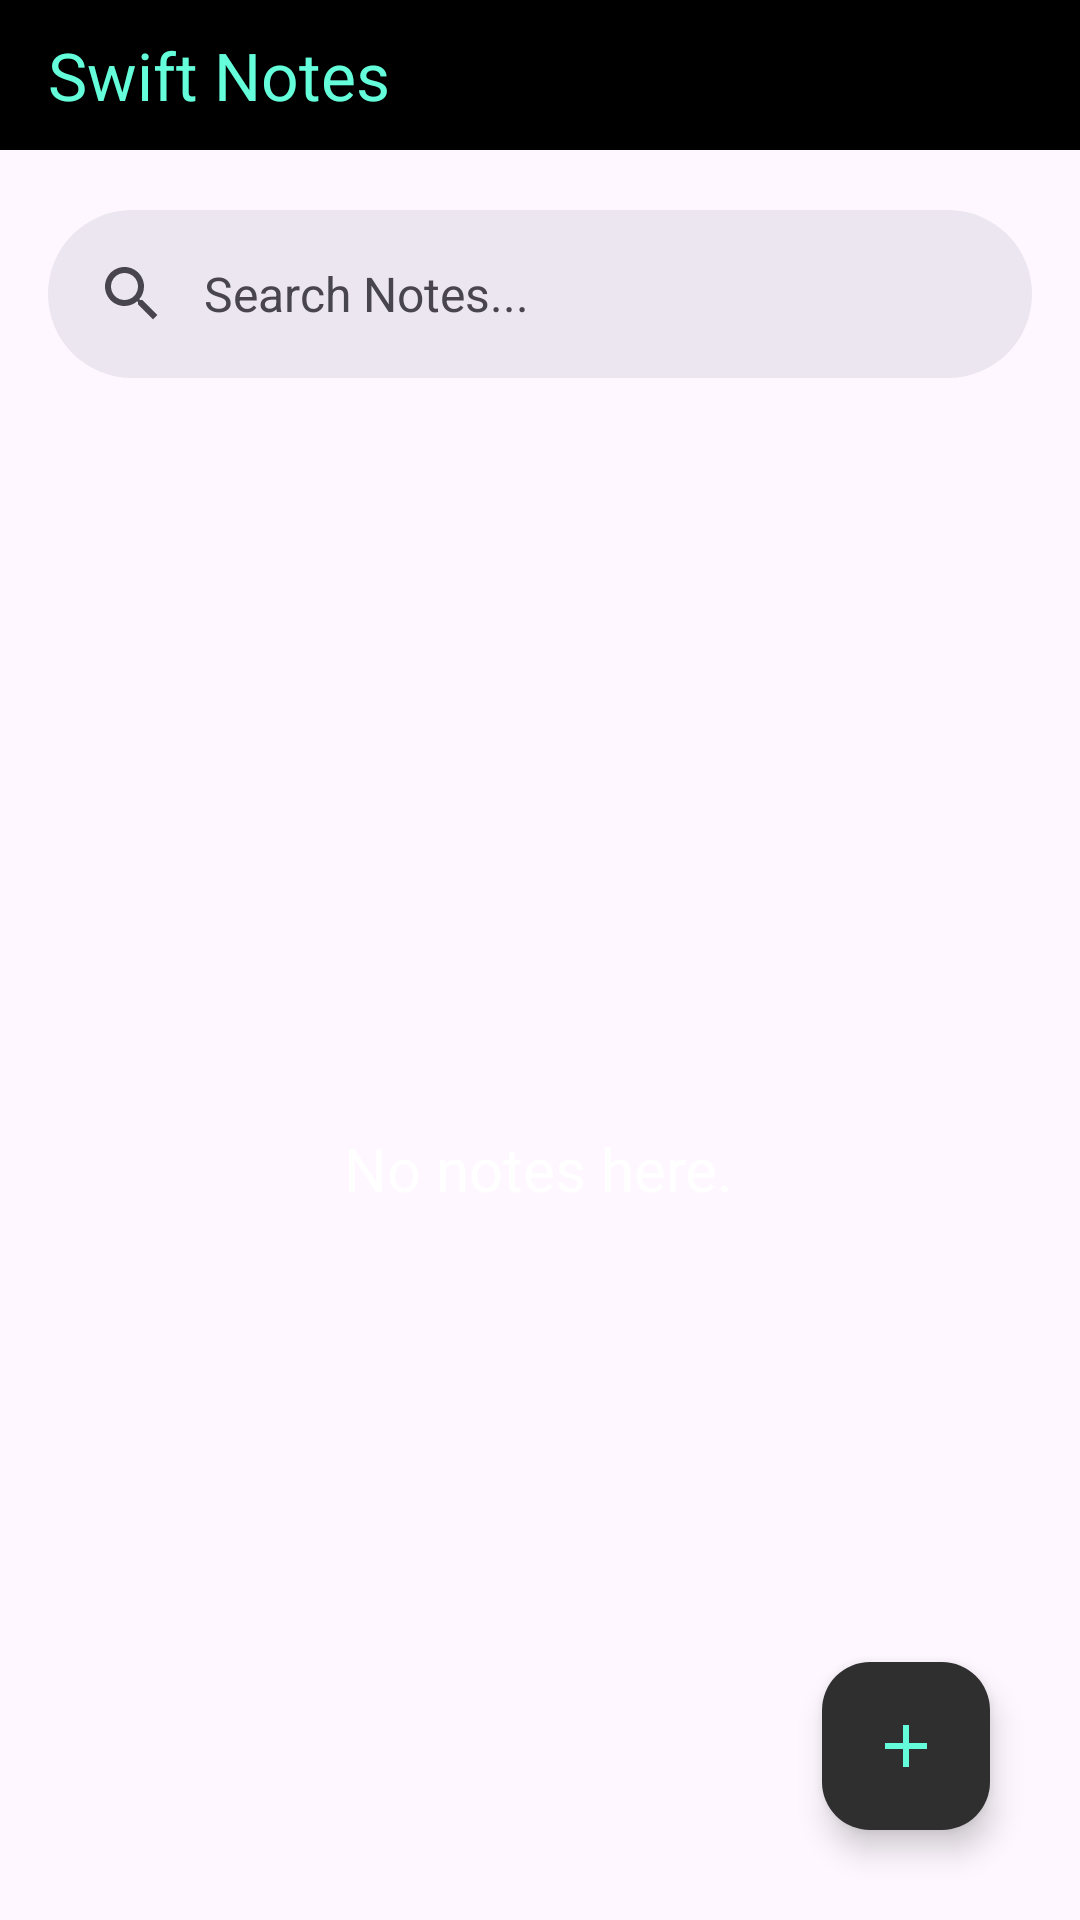

Point at icon controls on the screen. Image size 1080*1920, points as (x,y).
Add Note: (906,1746)
